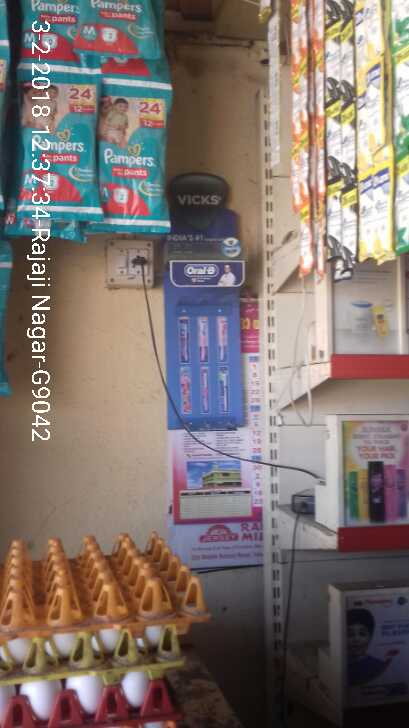pampers: (95, 76, 168, 229), (77, 1, 155, 59)
